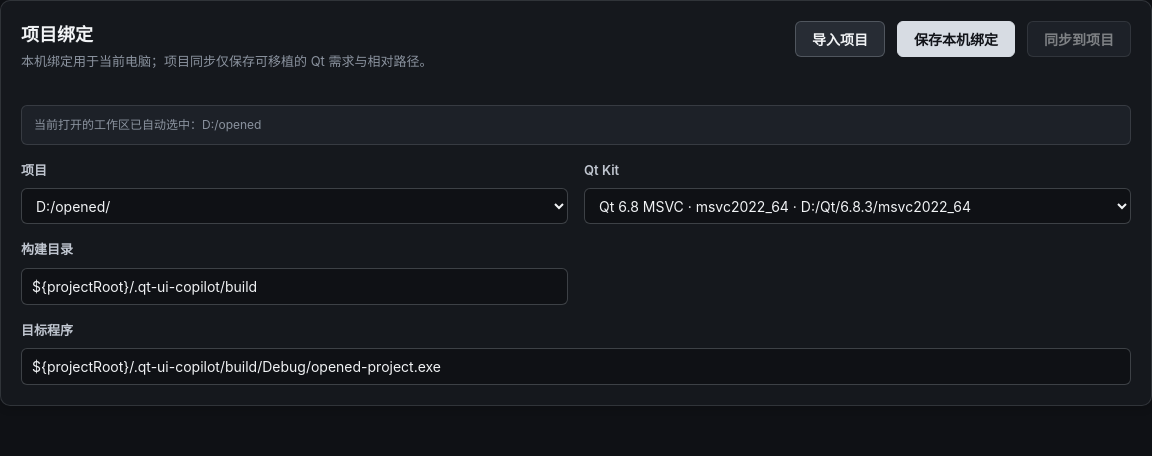
Scenario: ProjectBindingPanel › keeps the local binding valid when the optional project sync cannot write
The image size is (1152, 456).
Expected: the dropdown showing "D:/opened/" is shown, top-left (21, 188), bottom-right (568, 224)
Expected: the dropdown labelled "Qt Kit" shows "Qt 6.8 MSVC · msvc2022_64 · D:/Qt/6.8.3/msvc2022_64", top-left (584, 188), bottom-right (1131, 224)
Click the button "保存本机绑定": (956, 39) top-left (897, 21), bottom-right (1015, 57)
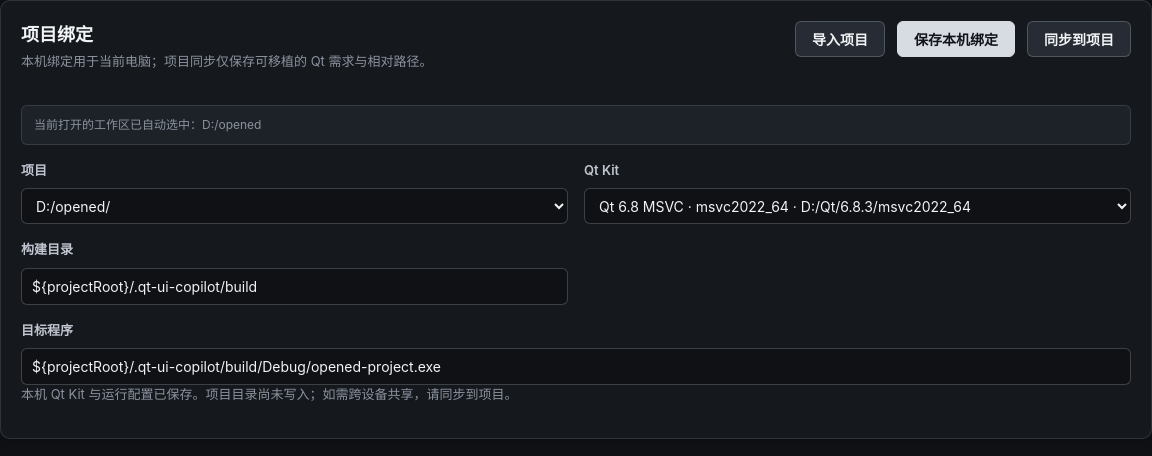
Click the button "同步到项目": (1079, 39) top-left (1027, 21), bottom-right (1131, 57)
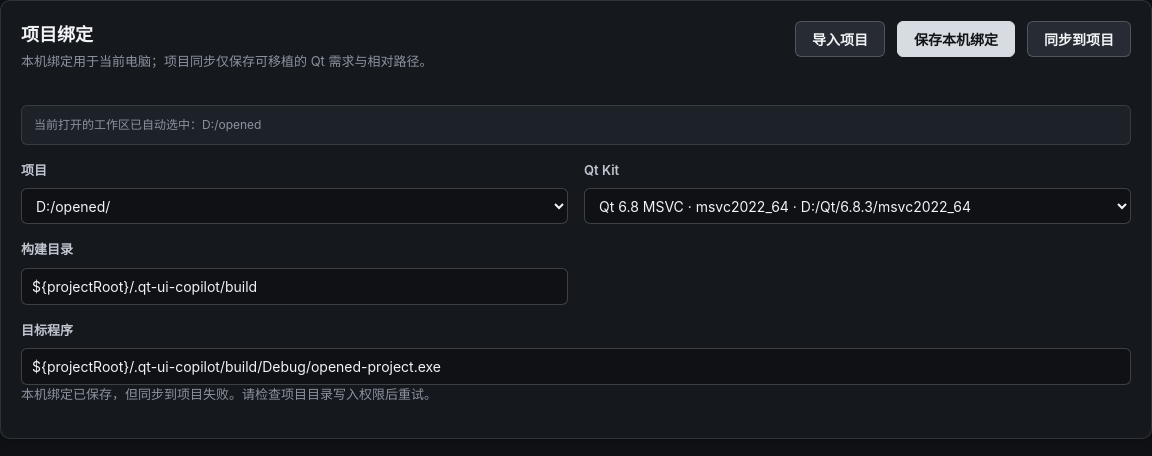
Expected: the text "本机绑定已保存，但同步到项目失败。请检查项目目录写入权限后重试。" is shown, top-left (21, 386), bottom-right (437, 402)
